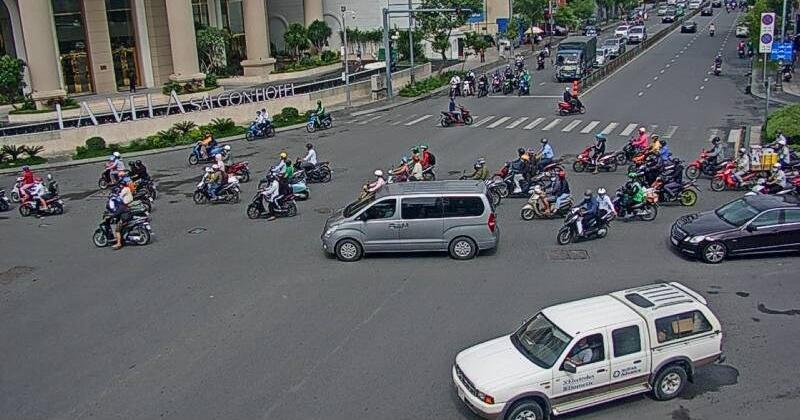xe hoi: (454, 279, 729, 419), (317, 178, 498, 262), (667, 194, 798, 263)
xe may: (91, 195, 152, 251), (555, 187, 611, 242), (604, 172, 659, 222), (520, 170, 572, 219), (246, 174, 297, 223), (710, 148, 763, 190), (685, 136, 735, 179), (191, 163, 240, 203), (19, 173, 63, 216), (571, 133, 617, 173), (291, 141, 333, 183), (186, 130, 229, 164), (96, 151, 130, 189), (439, 94, 473, 127), (245, 108, 275, 142), (555, 85, 585, 116), (305, 98, 331, 133)
